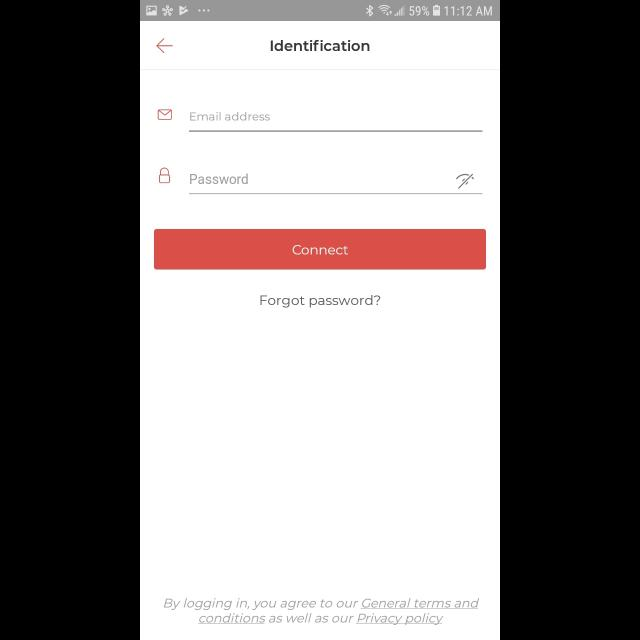icon: (456, 174, 476, 190), (156, 38, 174, 54), (158, 110, 174, 120), (160, 168, 170, 184)
input: (189, 111, 483, 132), (190, 173, 482, 194)
text: (164, 598, 478, 626), (261, 294, 381, 308), (270, 40, 370, 52), (190, 112, 270, 121), (190, 173, 248, 184)
textbutton: (154, 230, 486, 270)
uppertaskbar: (140, 1, 500, 22)
